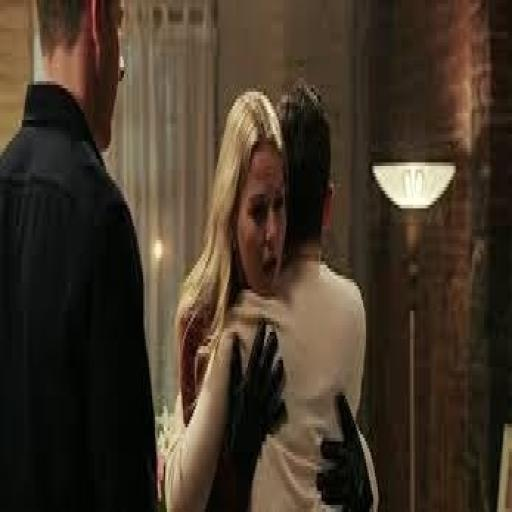hugging: (162, 78, 376, 508)
